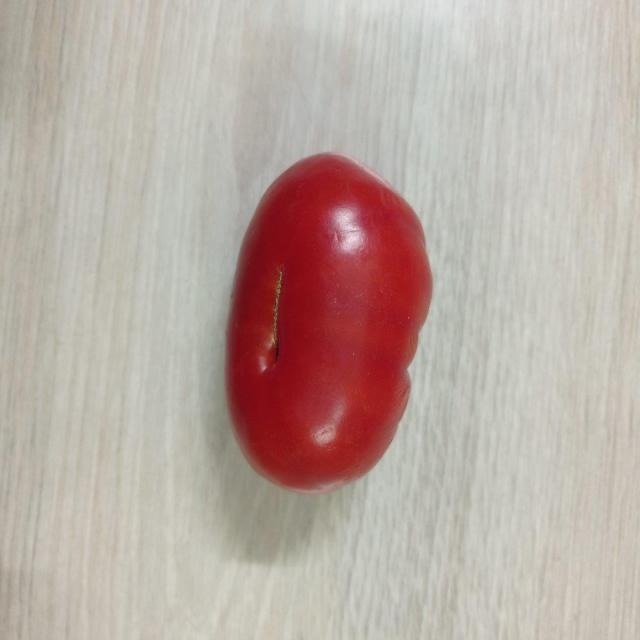Tomato: (223, 147, 437, 495)
